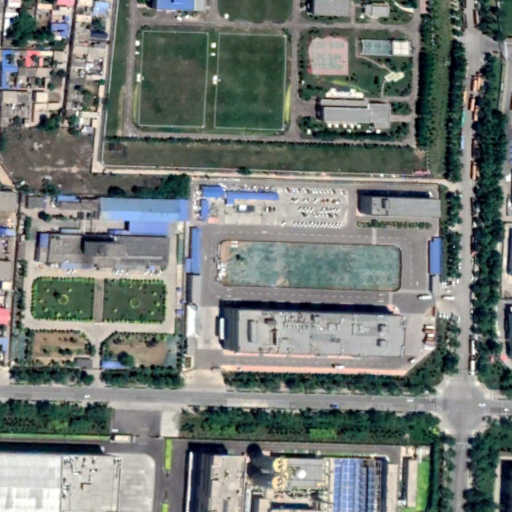cw: (219, 238, 401, 292)
